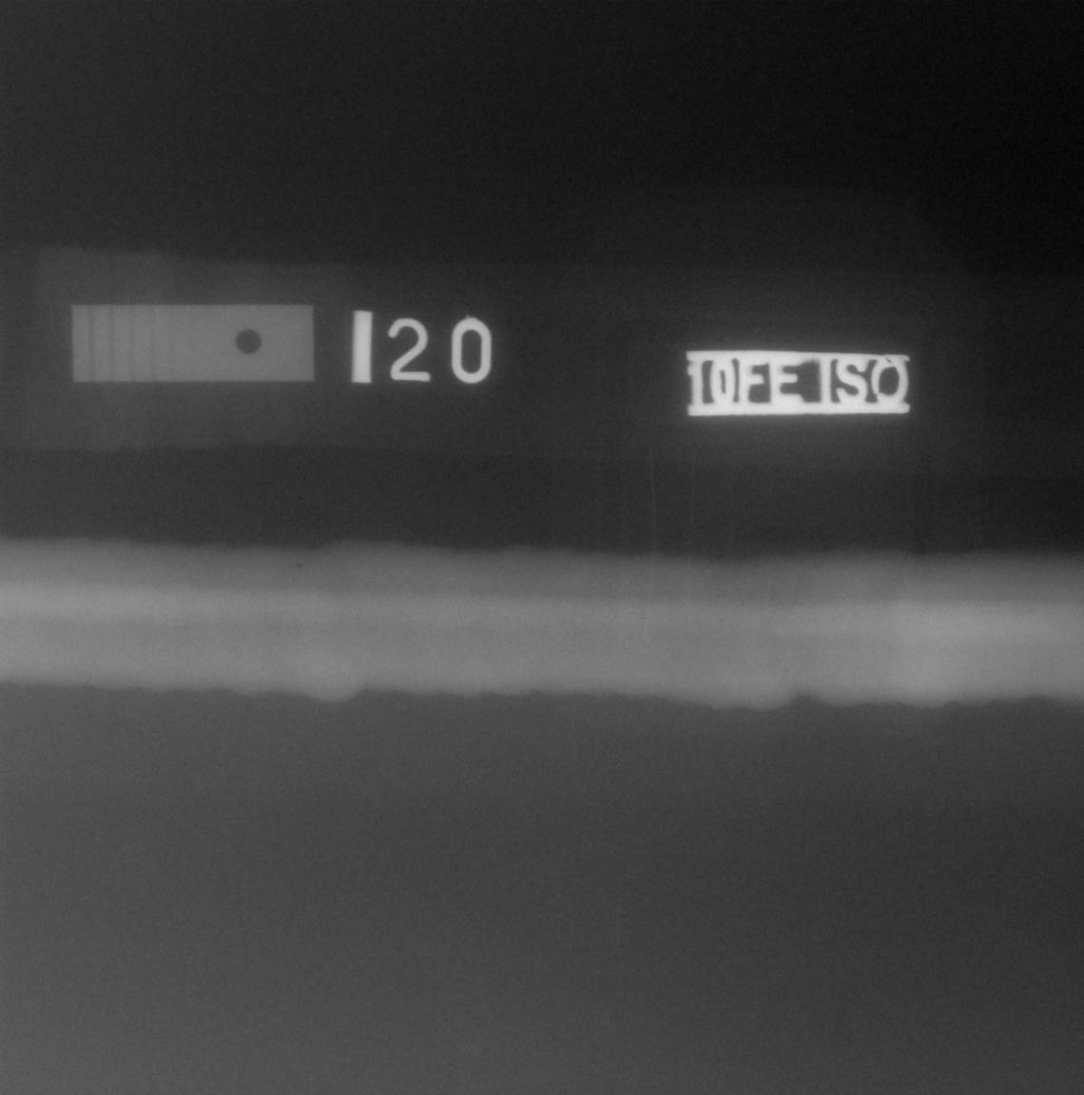Pore/Porosity: (770, 588, 778, 600), (289, 563, 302, 569)
Reference Standard 1: (71, 304, 315, 381)
